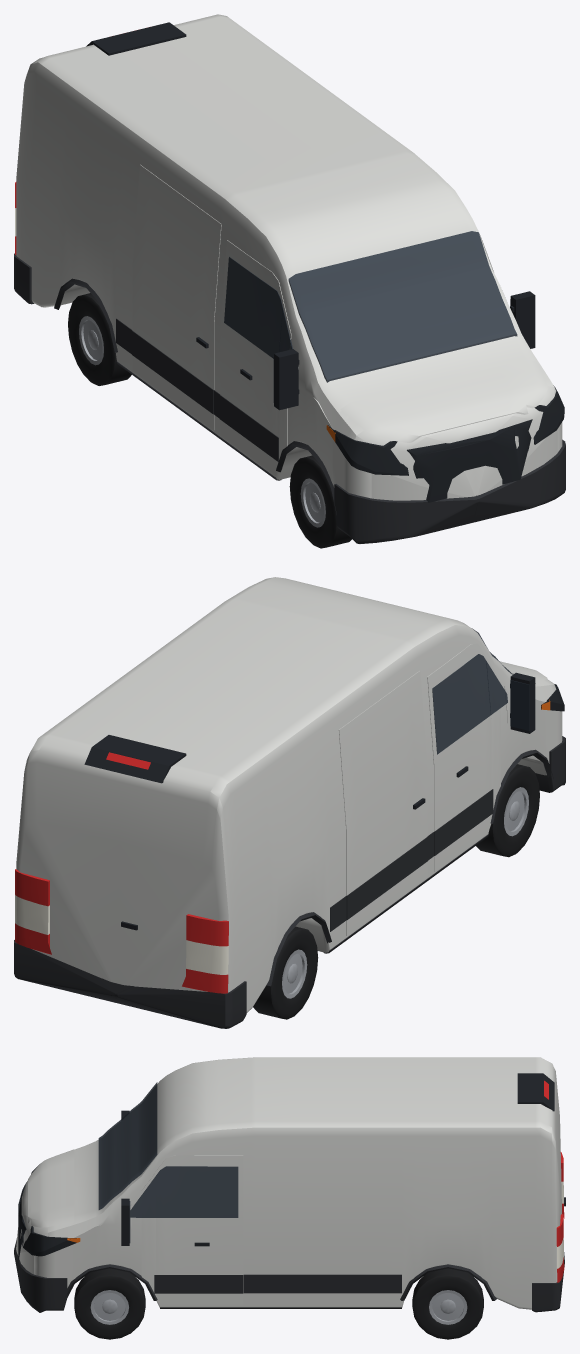
The model's file is camper-sprinter_144.glb.
3 views of the same model, one above another, from view 1: azimuth 30°, elevation 25°; view 2: azimuth 150°, elevation 25°; view 3: azimuth 270°, elevation 25° (orthographic). The views are drawn at different scales.
Parts seen in each view (by area): view 1: traveler_camper_parked, sliding_door, front_door_right, hood, rear_right_wheel, front_right_wheel, front_door_left; view 2: traveler_camper_parked, sliding_door, front_door_right, rear_right_wheel, front_right_wheel; view 3: traveler_camper_parked, front_door_left, front_left_wheel, rear_left_wheel, hood.
Boxes of the visible parts, box(x1,y1,x2,y2) form: traveler_camper_parked: box(14, 14, 565, 543); sliding_door: box(132, 164, 221, 429); front_door_right: box(219, 240, 299, 473); hood: box(340, 359, 547, 442); rear_right_wheel: box(68, 293, 131, 385); front_right_wheel: box(289, 455, 351, 548); front_door_left: box(510, 291, 535, 348); traveler_camper_parked: box(14, 577, 565, 1028); sliding_door: box(338, 671, 428, 935); front_door_right: box(427, 643, 535, 871); rear_right_wheel: box(253, 926, 318, 1019); front_right_wheel: box(476, 764, 539, 857); traveler_camper_parked: box(14, 1057, 564, 1312); front_door_left: box(121, 1155, 243, 1305); front_left_wheel: box(74, 1268, 145, 1339); rear_left_wheel: box(412, 1268, 483, 1339); hood: box(28, 1149, 74, 1227).
Bounding box in the file's own units: 2.44 × 2.56 × 5.98.
